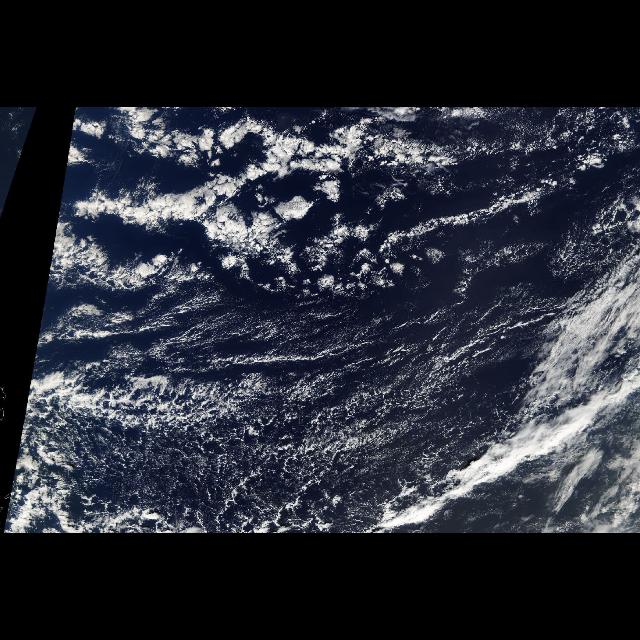Fish: (79, 112, 561, 296)
Flower: (100, 116, 366, 242)
Gravel: (59, 363, 421, 523)
Sugar: (92, 286, 532, 518)
